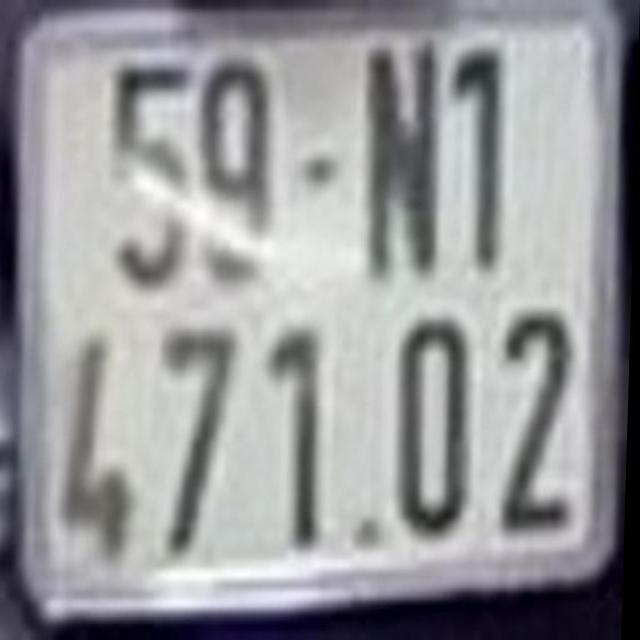0: (398, 321, 486, 534)
1: (264, 331, 333, 559), (448, 53, 516, 274)
2: (506, 304, 581, 530)
4: (68, 332, 141, 564)
5: (107, 59, 195, 288)
7: (151, 324, 238, 559)
9: (198, 59, 277, 280)
N: (356, 40, 452, 273)
